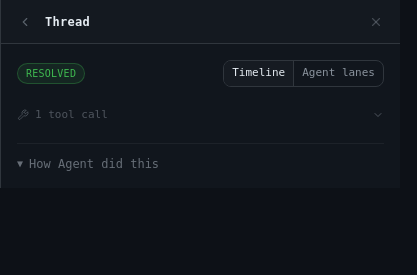
Scenario: ThreadDetail — consult_agent card › does not render consultation card for non-matching content format
Click the button "1 tool call" at [71, 114], box [17, 102, 384, 127]
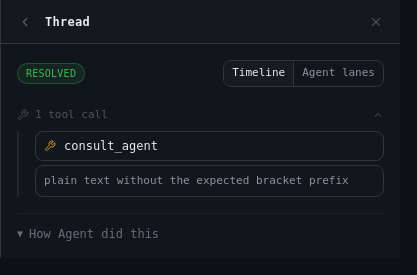
Result: the text "plain text" is shown at [44, 174, 349, 187]
